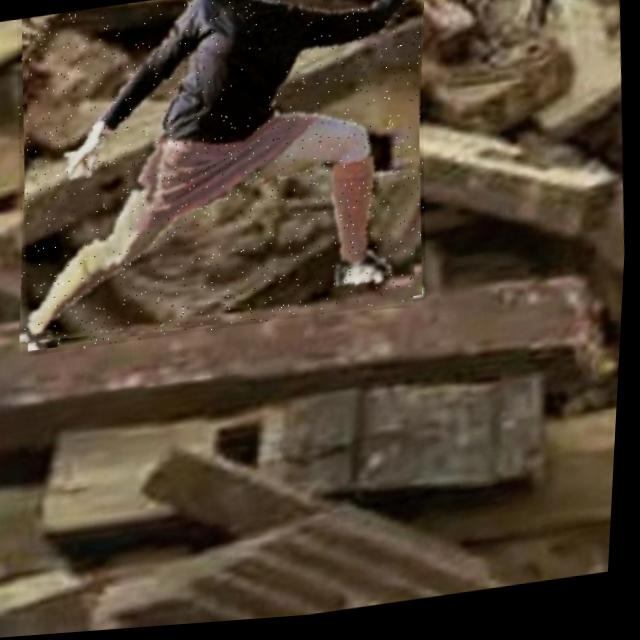Person in Rubble: (2, 0, 443, 358)
